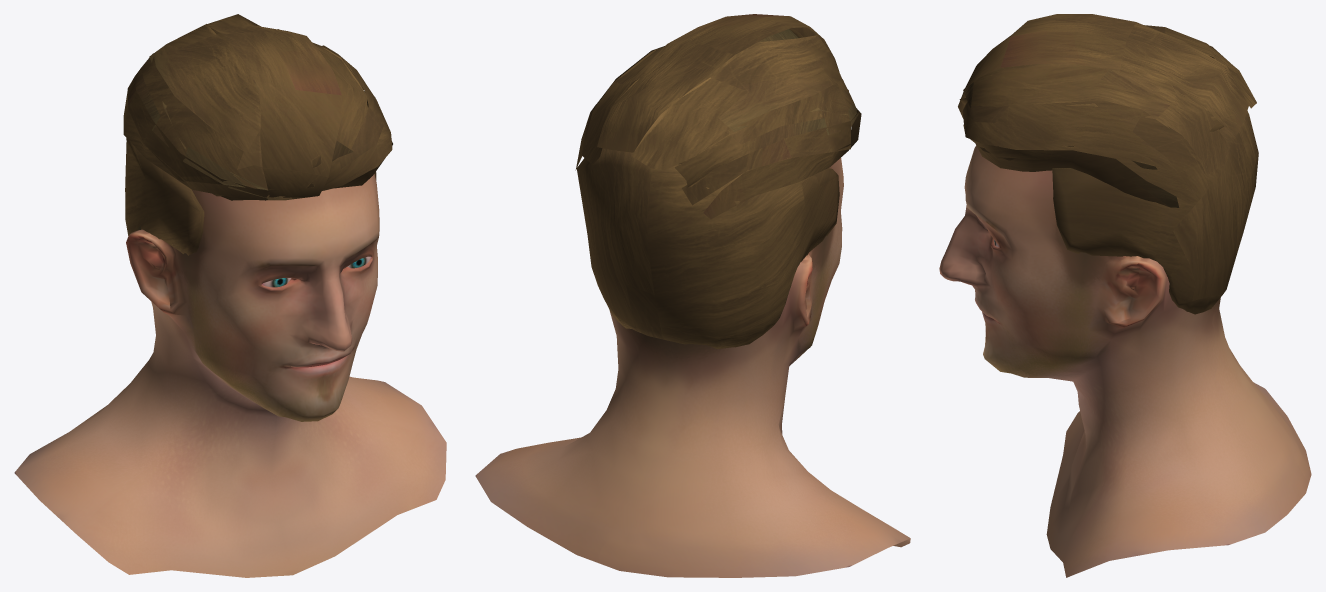
The model's file is man_head.glb.
The picture shows the model from 3 angles, left to right: view 1: azimuth 30°, elevation 25°; view 2: azimuth 150°, elevation 25°; view 3: azimuth 270°, elevation 25°; orthographic projection. The views are drawn at different scales.
Visible parts, largest first — view 1: ZBrush_defualt_group, hair_top; view 2: hair_top, ZBrush_defualt_group; view 3: ZBrush_defualt_group, hair_top.
Part boxes in pixels (left/top/right/bottom): ZBrush_defualt_group: left=14, top=174, right=446, bottom=577; hair_top: left=123, top=14, right=392, bottom=255; hair_top: left=575, top=14, right=861, bottom=348; ZBrush_defualt_group: left=475, top=158, right=910, bottom=577; ZBrush_defualt_group: left=939, top=145, right=1311, bottom=577; hair_top: left=958, top=14, right=1258, bottom=314.
Size of the model in its own units: 0.3245 by 0.4182 by 0.2797.
Materials: 2 (2 with a texture image).
